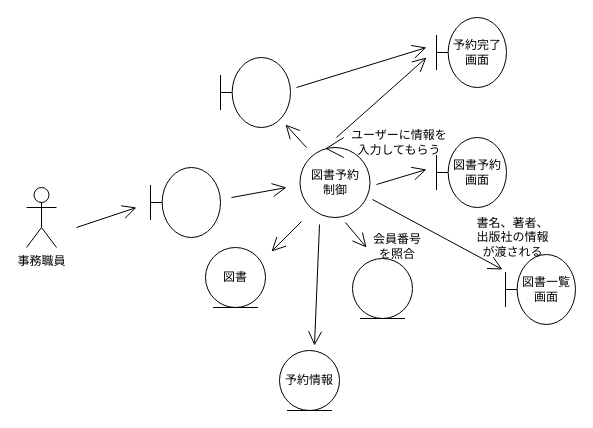
The diagram is 593 pixels wide and 428 high, and some of its shapes have lost their labels. Each missing label, with the box of its shape:
メッセージ: (220, 56, 290, 128)
メニュー画面: (150, 166, 220, 238)
会員: (352, 258, 412, 318)
